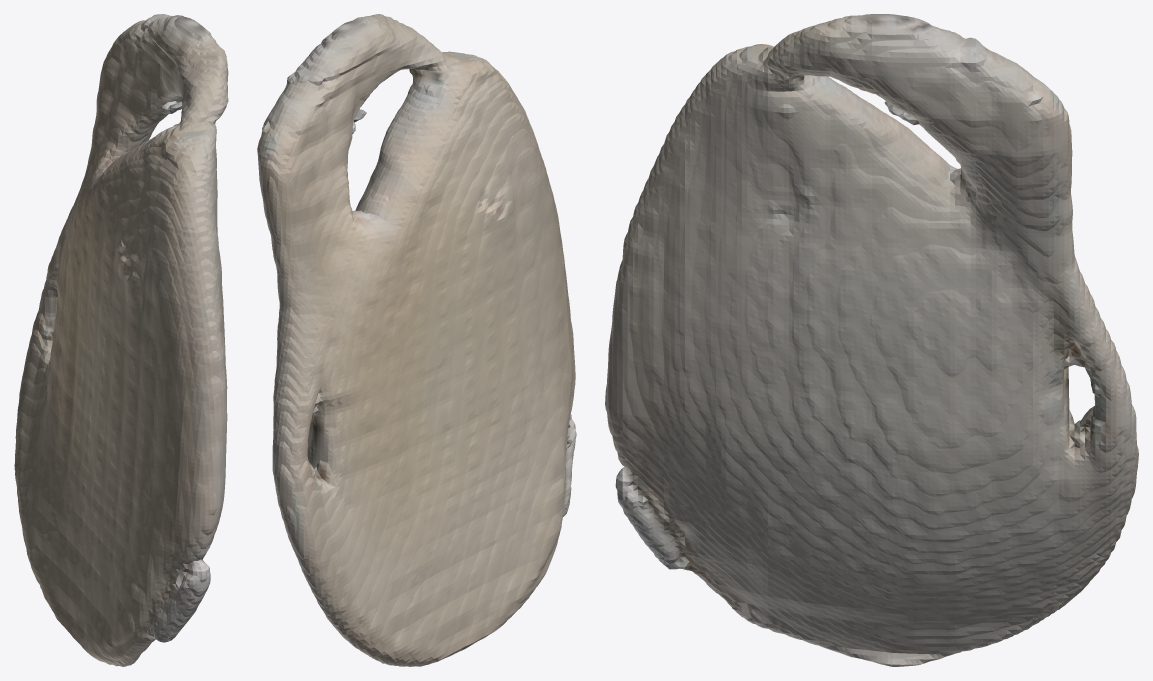
Rendered from glasshead.glb.
3 views of the same model, side by side, from view 1: azimuth 30°, elevation 25°; view 2: azimuth 150°, elevation 25°; view 3: azimuth 270°, elevation 25° (orthographic). The views are drawn at different scales.
Bounding box in the file's own units: 0.291 × 1.02 × 0.7009.
